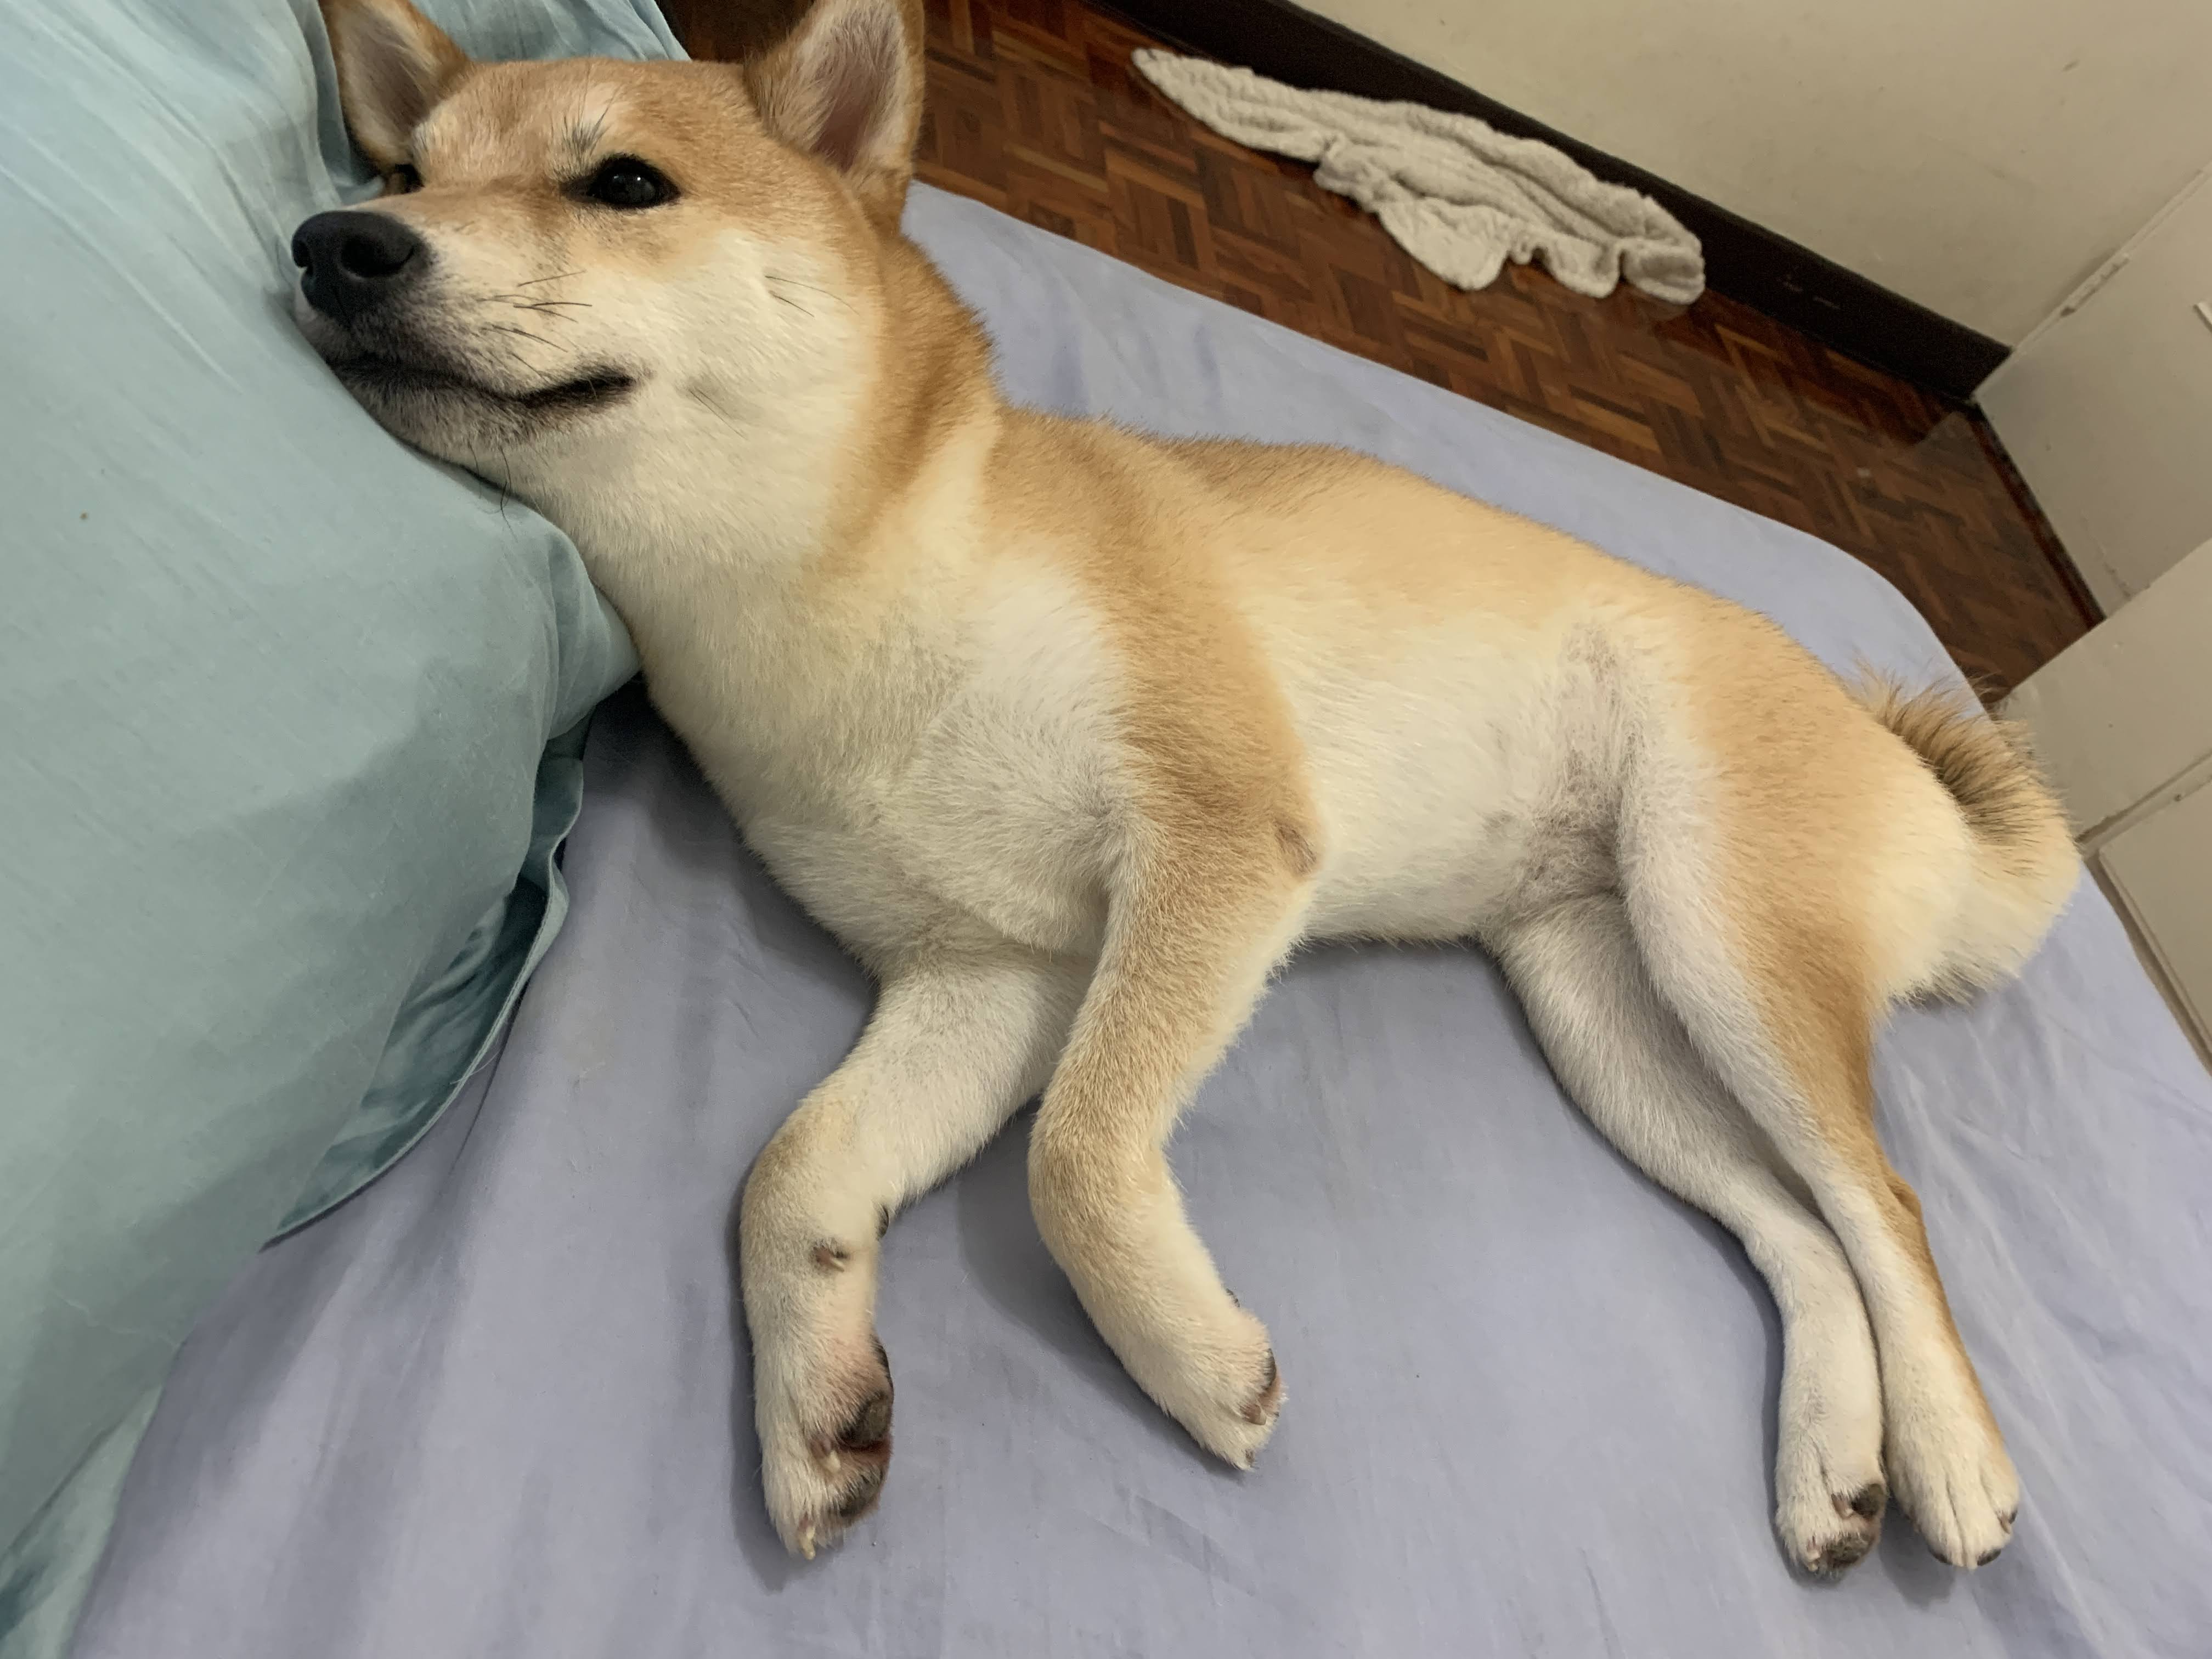Get down: (293, 2, 2181, 1589)
